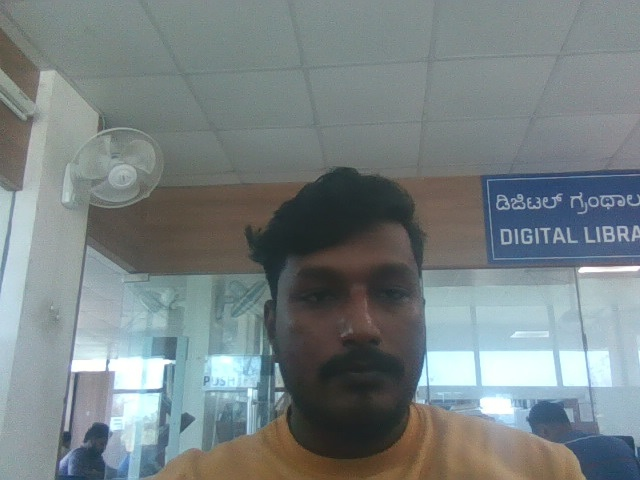real: (249, 151, 456, 445)
